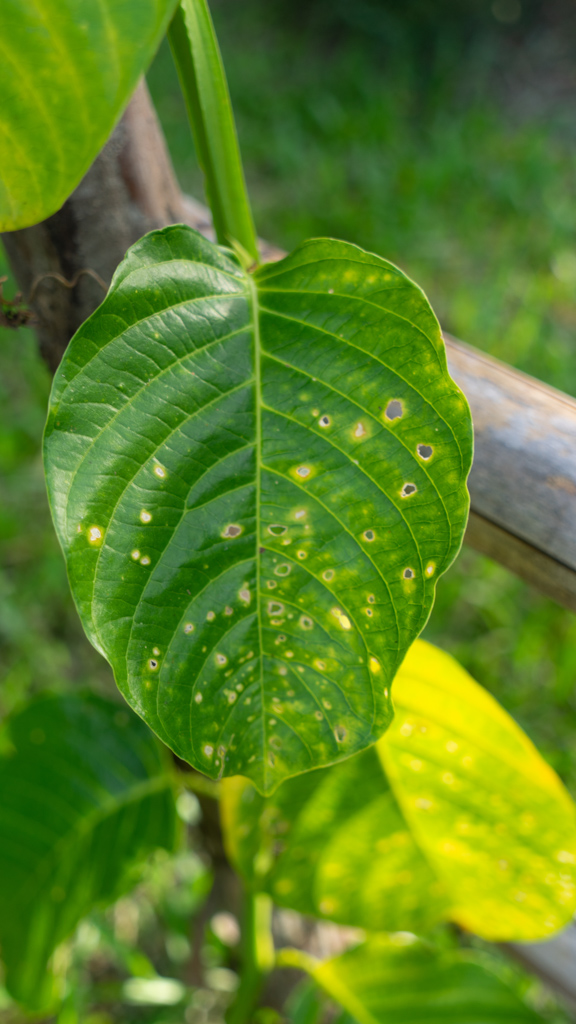Alternaria brassicicola: (90, 364, 443, 773)
